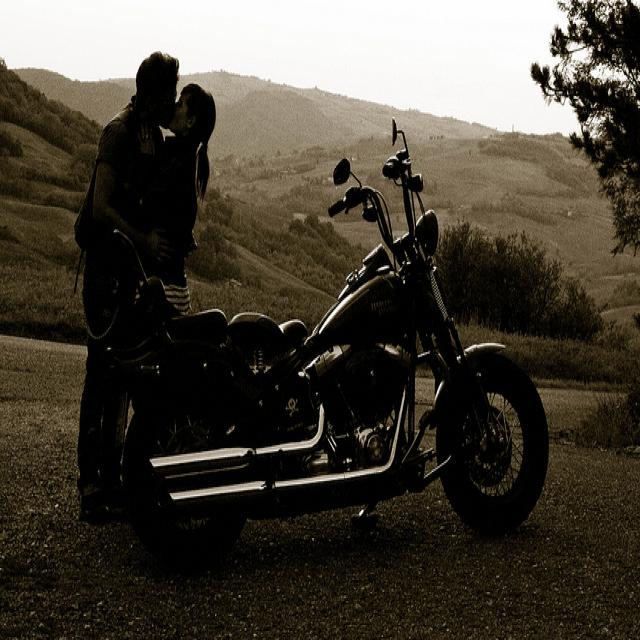motor: (121, 127, 550, 578)
